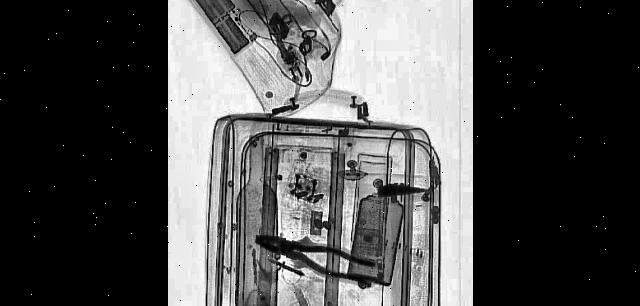Pliers: (254, 225, 380, 290)
